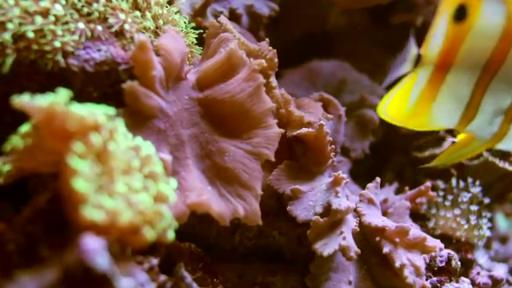Fish: (376, 0, 511, 166), (381, 30, 419, 87)
